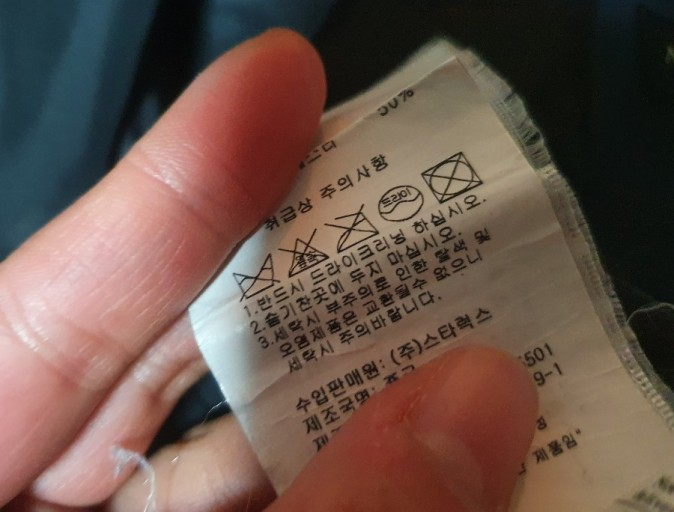KR_dry_clean: (370, 173, 432, 231)
KR_no_chlorine_bleach: (274, 220, 335, 282)
KR_no_iron: (320, 199, 385, 258)
KR_no_tumble_dry: (414, 146, 490, 209)
KR_no_wash: (226, 245, 282, 304)
